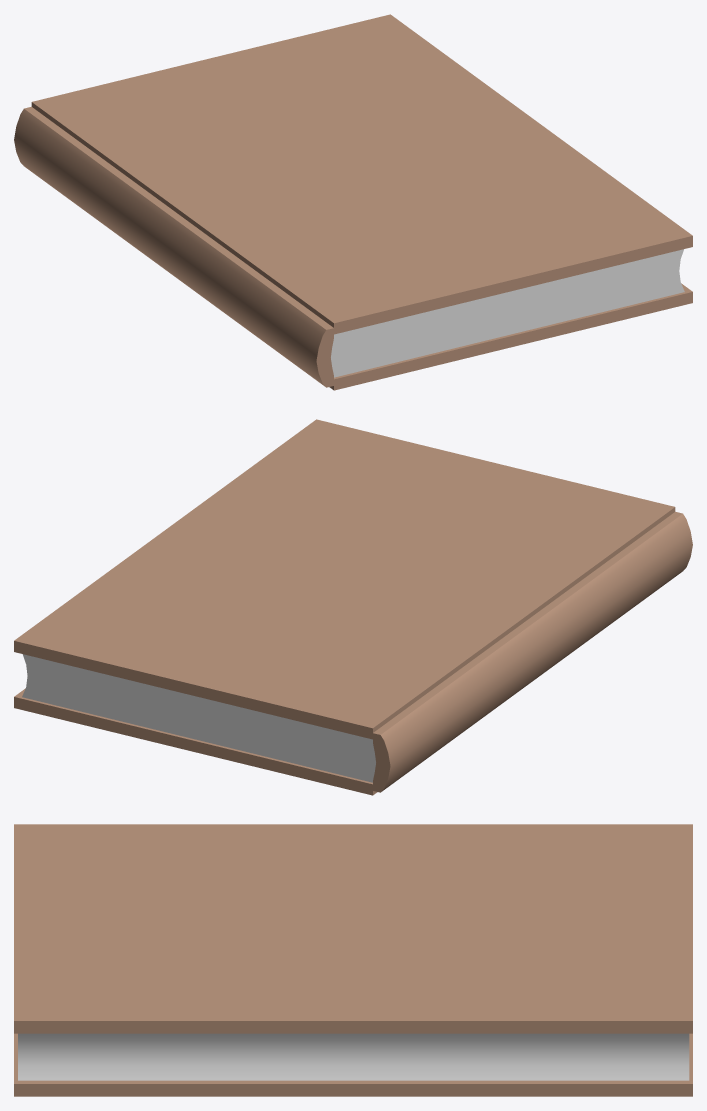
File: BrownBook.fbx
The picture shows the model from 3 angles, top to bottom: view 1: azimuth 30°, elevation 25°; view 2: azimuth 150°, elevation 25°; view 3: azimuth 270°, elevation 25°; orthographic projection. The views are drawn at different scales.
Visible parts, largest first — view 1: pCube1.016, pCube1.017; view 2: pCube1.016, pCube1.017; view 3: pCube1.016, pCube1.017.
Part boxes in pixels (bbox=[...]): pCube1.016: bbox=[14, 14, 692, 390]; pCube1.017: bbox=[331, 249, 684, 377]; pCube1.016: bbox=[14, 419, 692, 795]; pCube1.017: bbox=[22, 654, 375, 782]; pCube1.016: bbox=[14, 824, 692, 1096]; pCube1.017: bbox=[18, 1033, 689, 1080].
Size of the model in its own units: 176 by 30 by 244.
